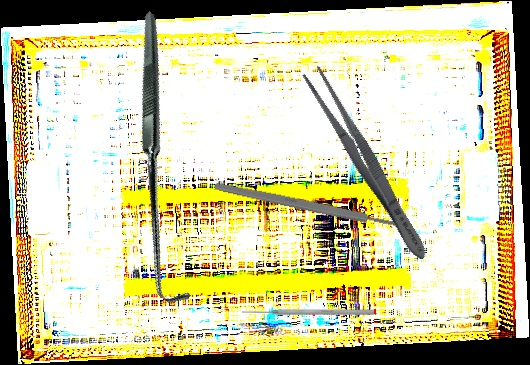Dressing Forceps: (298, 62, 435, 266)
Hook Surgical: (14, 11, 314, 311)
Pusher: (242, 308, 374, 316)
Scalpel Handle: (213, 180, 399, 231)
